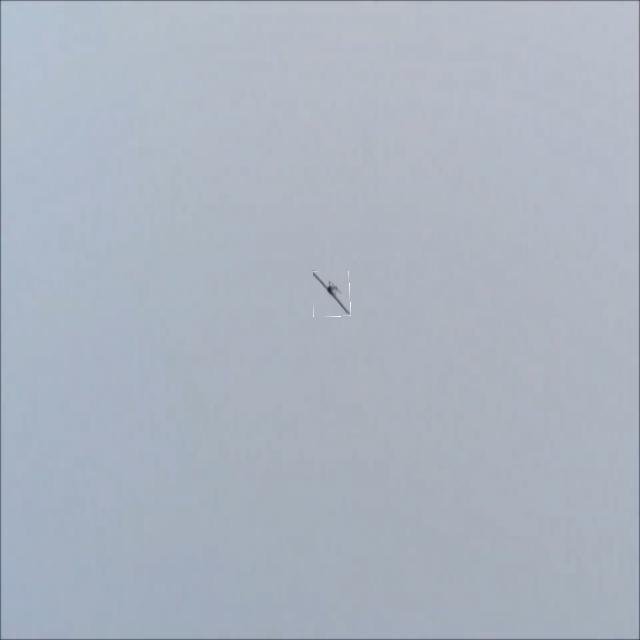iha: (303, 268, 346, 318)
